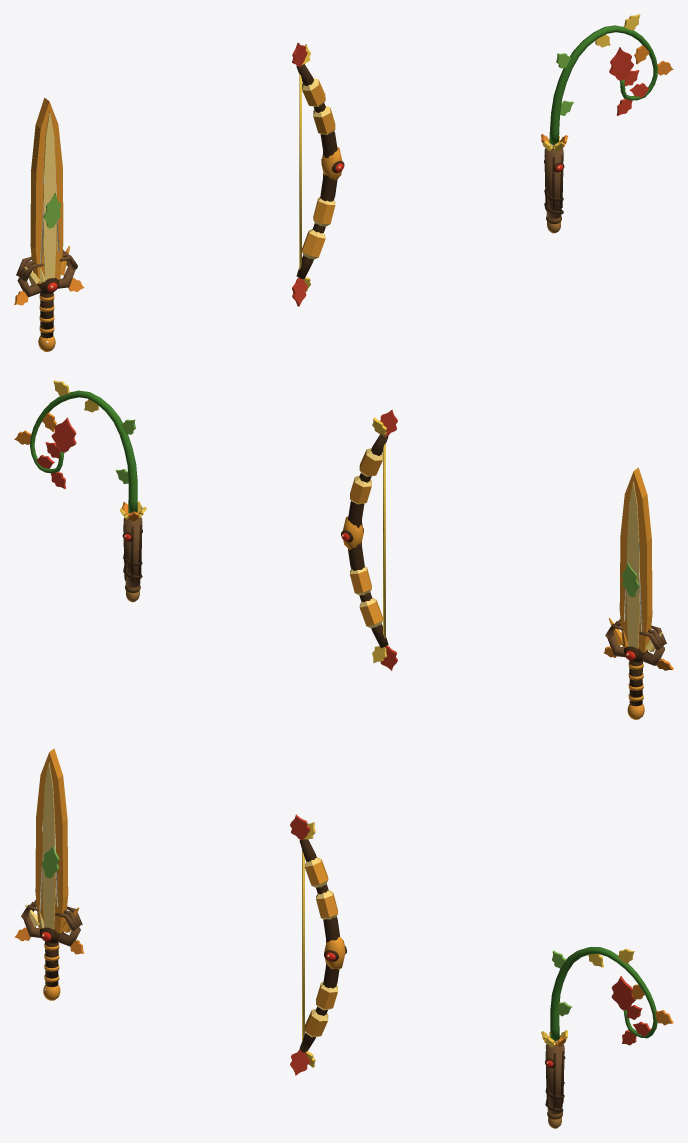
Rendered from equipements-chene.glb.
3 views of the same model, one above another, from view 1: azimuth 30°, elevation 25°; view 2: azimuth 150°, elevation 25°; view 3: azimuth 330°, elevation 25° (orthographic).
Visible parts, largest first — view 1: lame, laniere, lame_coeur, arc, manche, corde, feuille.013; view 2: lame, laniere, lame_coeur, arc, manche, corde, feuille.013; view 3: lame, laniere, lame_coeur, arc, manche.
Part boxes in pixels (left/top/right/bottom): lame: left=30, top=97, right=63, bottom=283; laniere: left=549, top=25, right=657, bottom=144; lame_coeur: left=43, top=111, right=56, bottom=280; arc: left=296, top=64, right=337, bottom=279; manche: left=544, top=145, right=563, bottom=218; corde: left=299, top=74, right=301, bottom=269; feuille.013: left=609, top=47, right=633, bottom=80; lame: left=619, top=467, right=652, bottom=652; laniere: left=30, top=390, right=137, bottom=513; lame_coeur: left=627, top=481, right=639, bottom=648; arc: left=348, top=434, right=388, bottom=647; manche: left=123, top=517, right=142, bottom=587; corde: left=383, top=443, right=385, bottom=638; feuille.013: left=51, top=417, right=76, bottom=452; lame: left=35, top=748, right=68, bottom=933; laniere: left=550, top=947, right=657, bottom=1040; lame_coeur: left=42, top=762, right=55, bottom=929; arc: left=299, top=839, right=339, bottom=1052; manche: left=545, top=1041, right=564, bottom=1114.
Bounding box in the file's own units: 5.22 × 2 × 0.2071.
